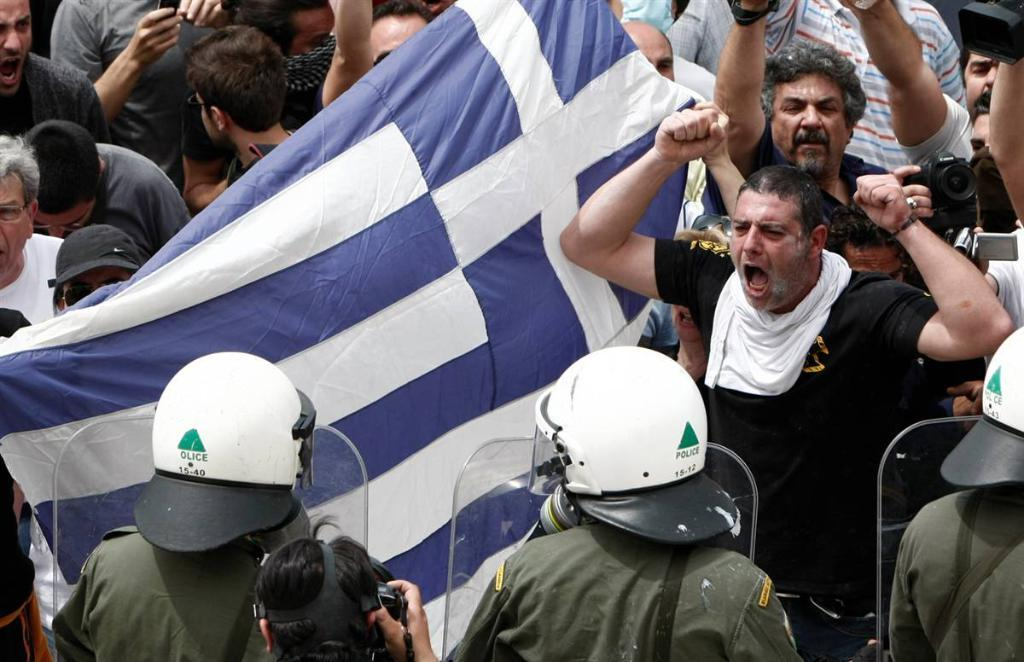helmet: (527, 346, 708, 503), (151, 351, 317, 497), (981, 325, 1024, 443)
nohelmet: (729, 164, 828, 316), (760, 42, 862, 178), (182, 24, 287, 150), (15, 119, 105, 240), (0, 134, 39, 288), (0, 0, 33, 97)
